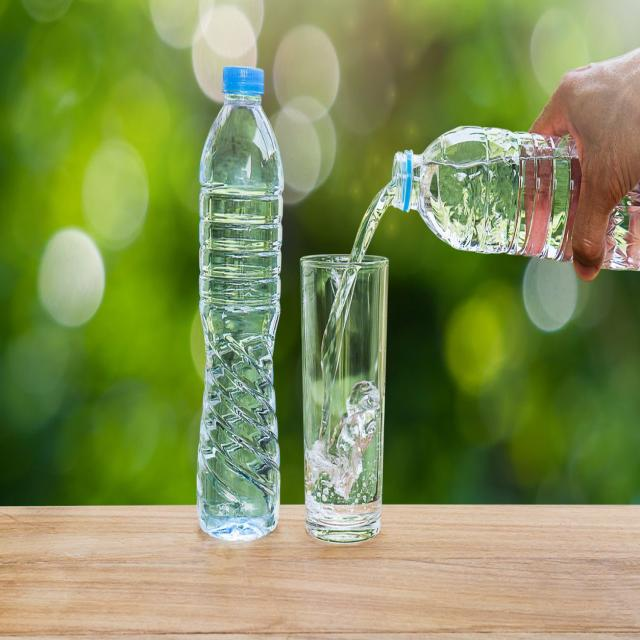bottle: (196, 61, 285, 546), (394, 118, 640, 270)
